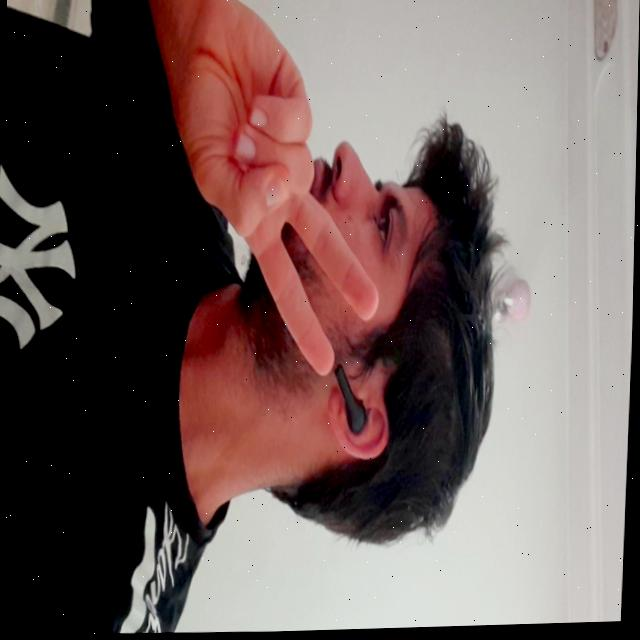Head: (223, 109, 516, 555)
Two: (152, 0, 390, 385)
